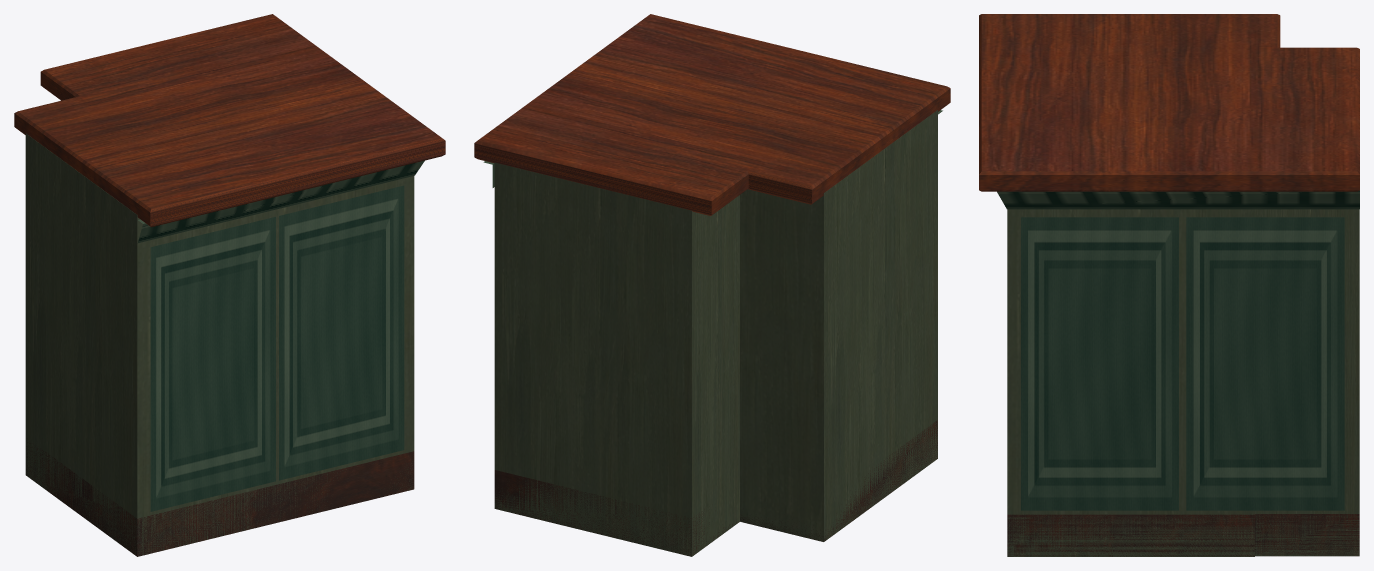
Rendered from city1880-corner-counter.gltf.
The picture shows the model from 3 angles, left to right: view 1: azimuth 30°, elevation 25°; view 2: azimuth 150°, elevation 25°; view 3: azimuth 270°, elevation 25°; orthographic projection. The views are drawn at different scales.
Visible parts, largest first — view 1: Paneled counter corner; view 2: Paneled counter corner; view 3: Paneled counter corner.
Boxes of the visible parts, box(x1,y1,x2,y2) form: Paneled counter corner: box(14, 14, 445, 556); Paneled counter corner: box(474, 14, 950, 556); Paneled counter corner: box(979, 14, 1359, 556).
Size of the model in its own units: 0.8245 by 0.9495 by 0.831.
Materials: 2 (2 with a texture image).
